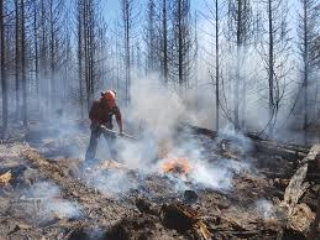fire: (162, 153, 193, 176)
smoke: (124, 66, 179, 159)
